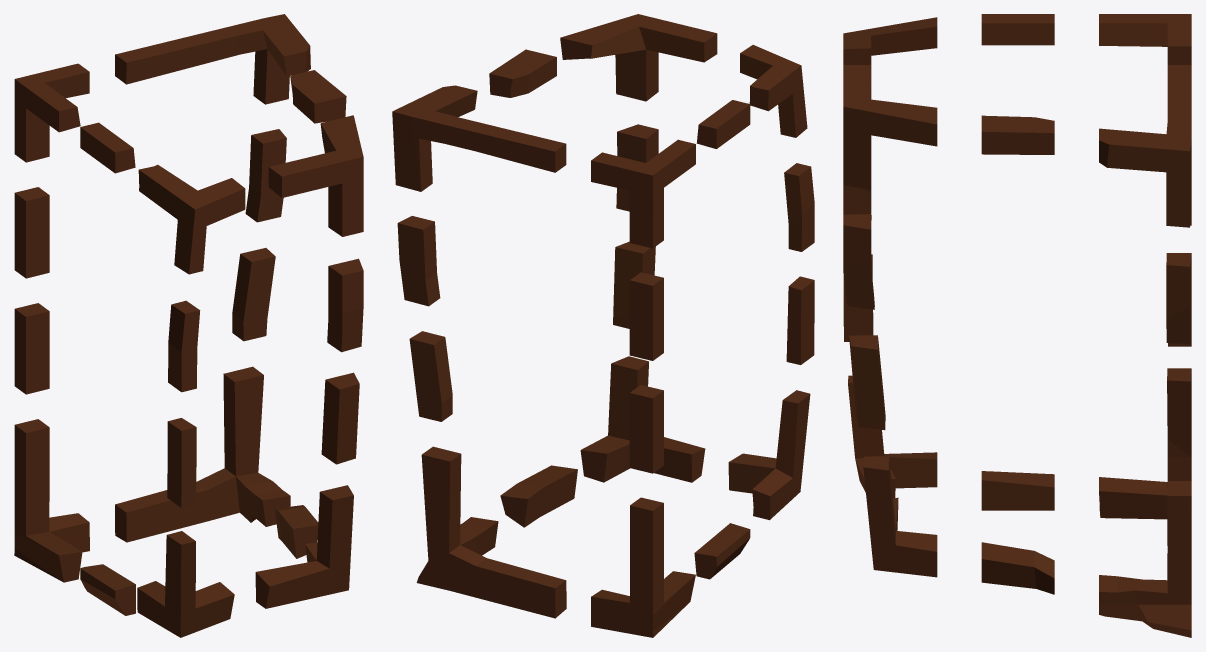
Rendered from HarvatiPLEASE.gltf.
3 renders of one model, left to right at view 1: azimuth 30°, elevation 25°; view 2: azimuth 150°, elevation 25°; view 3: azimuth 270°, elevation 25°, orthographic. The views are drawn at different scales.
Visible parts, largest first — view 1: Cube.006; view 2: Cube.006; view 3: Cube.006.
Boxes of the visible parts, x1,y1,x2,y2 form: Cube.006: (14,14,363,637); Cube.006: (392,14,814,637); Cube.006: (843,14,1191,637).
Bounding box in the file's own units: 0.547 × 0.9326 × 0.5863.
1 material, 1 textured.
